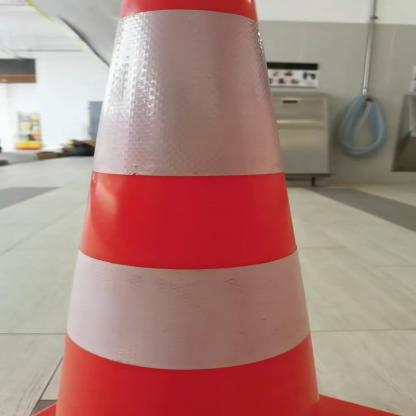cone: (41, 0, 398, 416)
